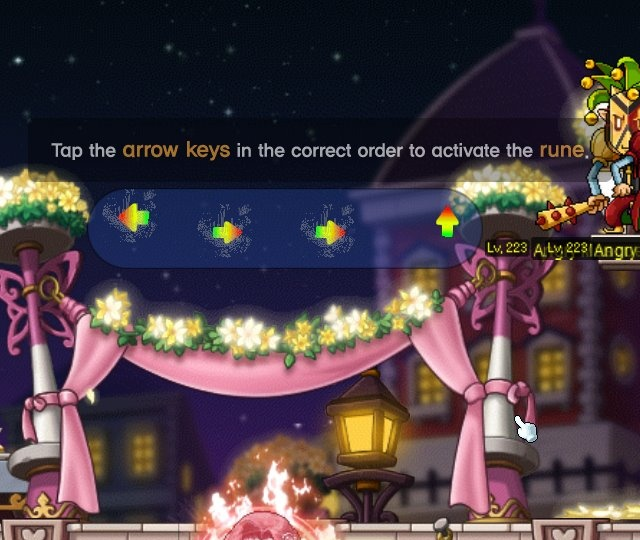rune_box: (80, 178, 494, 281)
